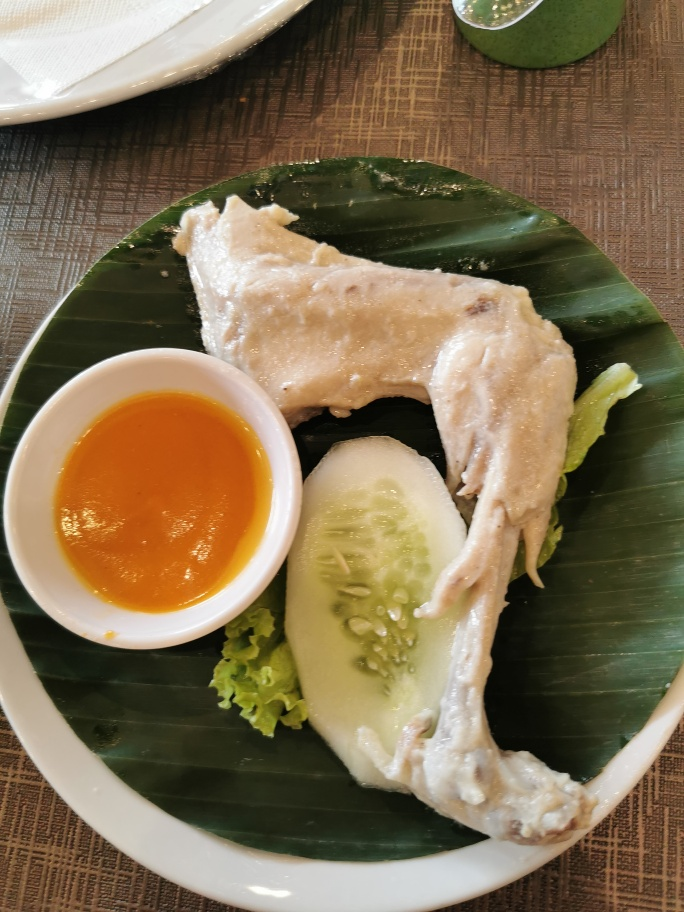ayam pop: (174, 206, 608, 850)
extra: (10, 352, 458, 797)
